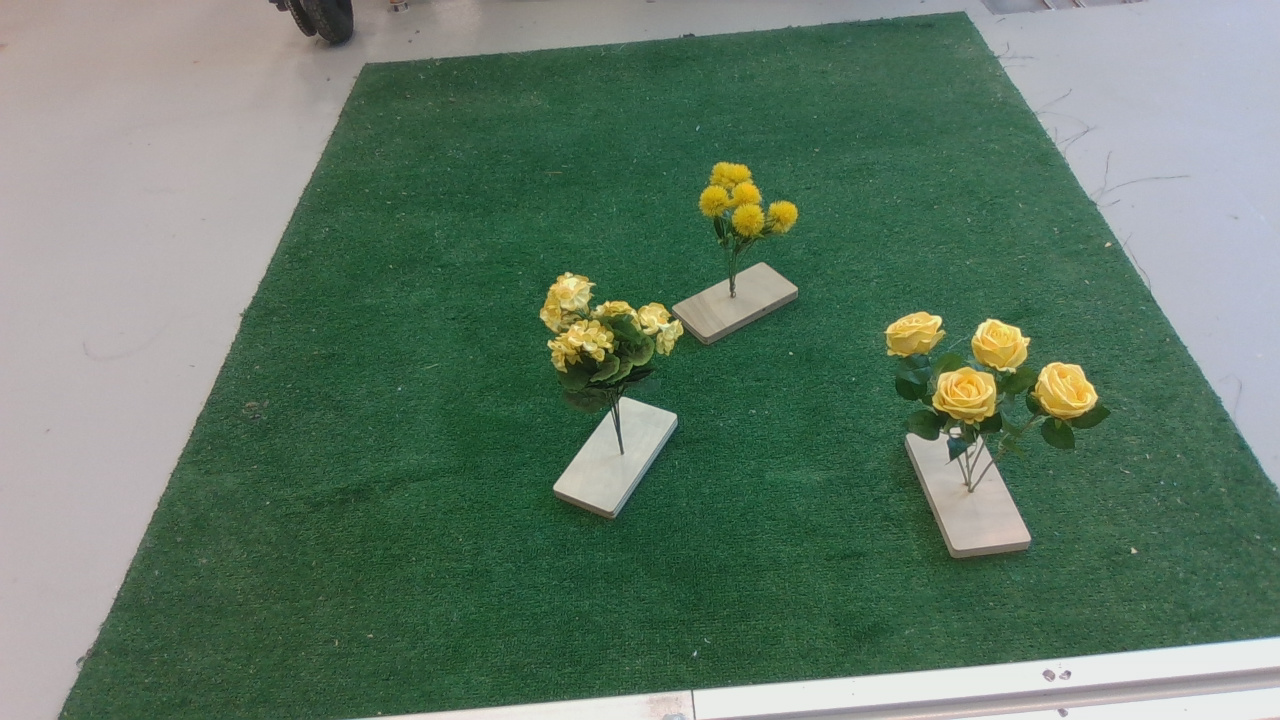dandelion: (684, 155, 813, 272)
geranium: (515, 270, 695, 414)
rose: (878, 306, 1121, 469)
